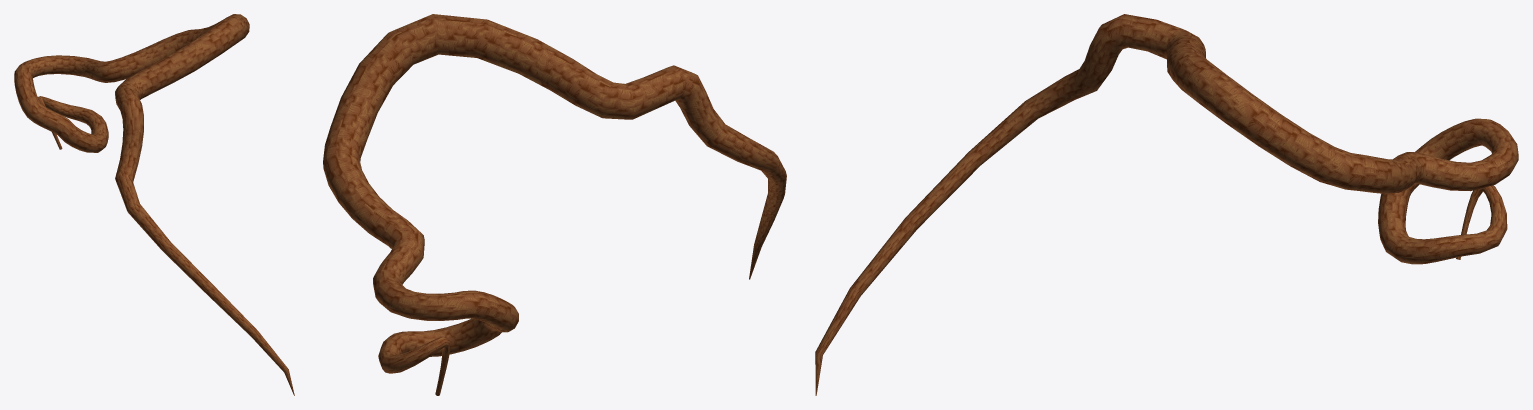
The model's file is racine_obstacle.FBX.
3 renders of one model, left to right at view 1: azimuth 30°, elevation 25°; view 2: azimuth 150°, elevation 25°; view 3: azimuth 270°, elevation 25°, orthographic. The views are drawn at different scales.
Visible parts, largest first — view 1: Loft001; view 2: Loft001; view 3: Loft001.
Part boxes in pixels (x1,y1,x2,y2): Loft001: (14, 14, 294, 395); Loft001: (323, 14, 786, 395); Loft001: (815, 14, 1518, 395).
Size of the model in its own units: 4181 by 5198 by 8810.
Materials: 1 (1 with a texture image).
